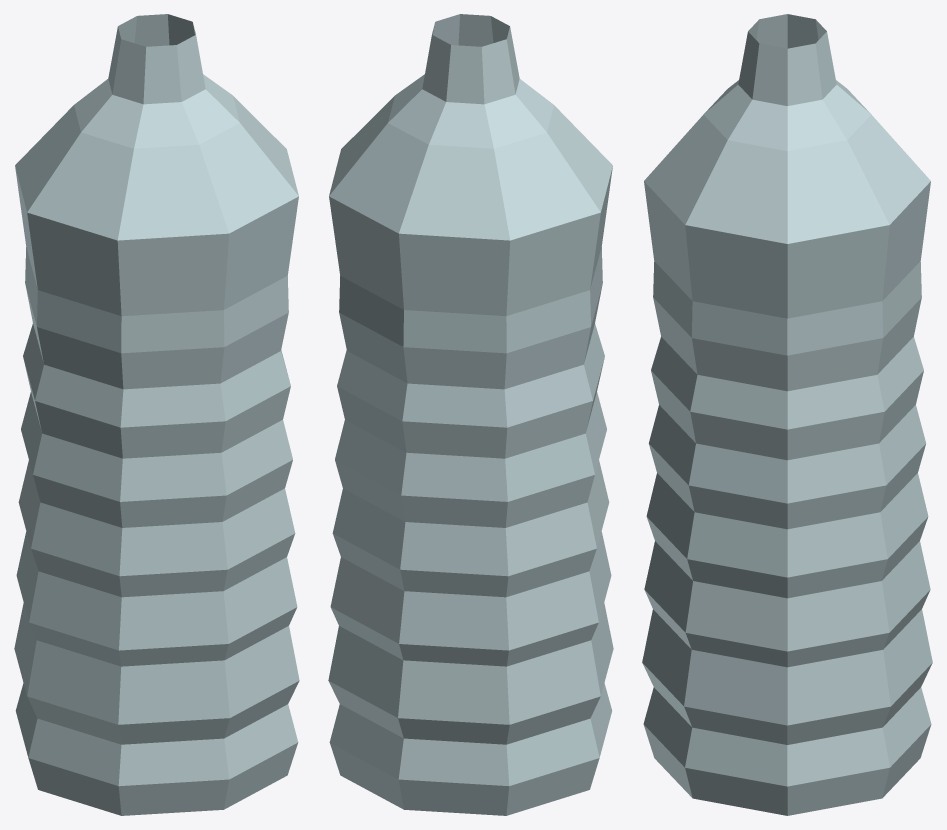
File: water.glb
The picture shows the model from 3 angles, left to right: view 1: azimuth 30°, elevation 25°; view 2: azimuth 150°, elevation 25°; view 3: azimuth 270°, elevation 25°; orthographic projection.
Parts seen in each view (by area): view 1: Bottled Water; view 2: Bottled Water; view 3: Bottled Water.
Boxes of the visible parts, x1,y1,x2,y2 form: Bottled Water: (14,14,299,815); Bottled Water: (328,14,613,815); Bottled Water: (642,14,932,815).
Size of the model in its own units: 0.0642 by 0.1726 by 0.0626.
2 materials, 2 textured.
